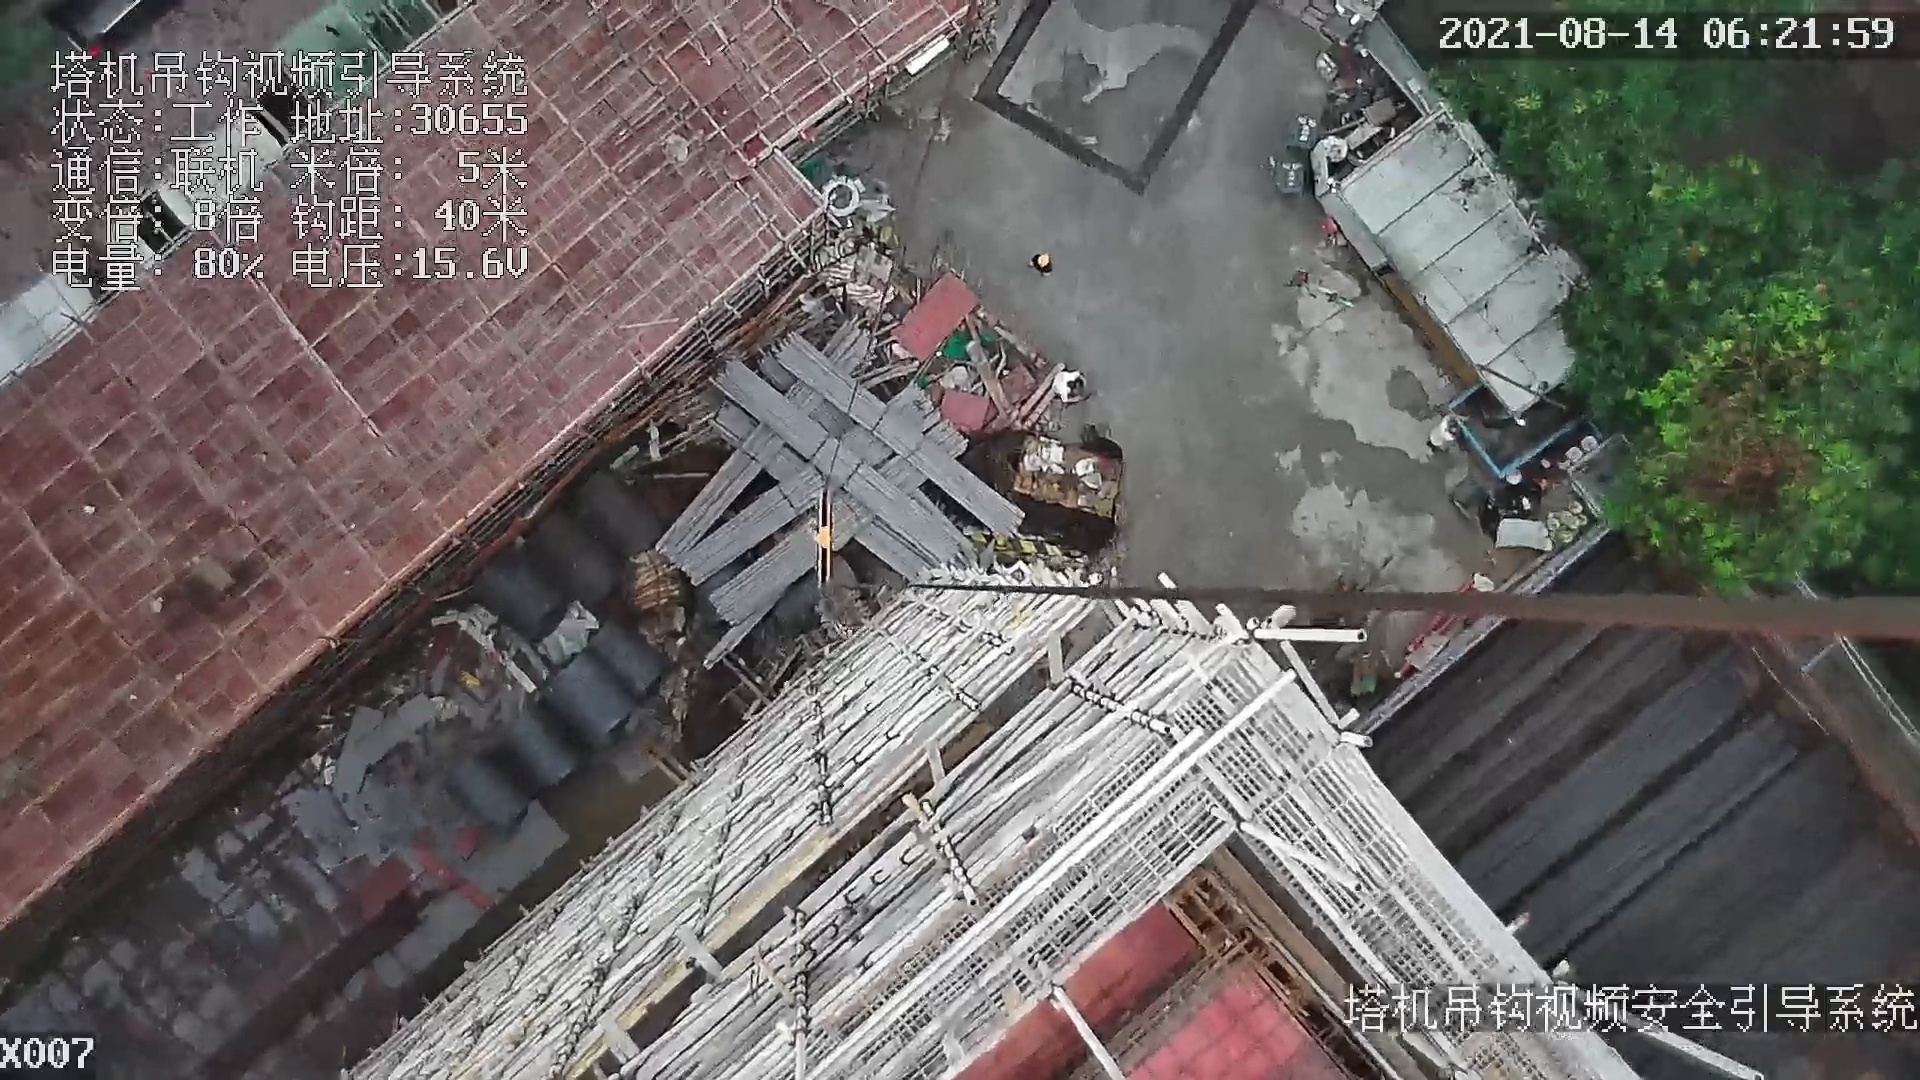hook: (809, 489, 837, 589)
person: (1028, 247, 1058, 281)
rebar: (1454, 587, 1885, 1017)
